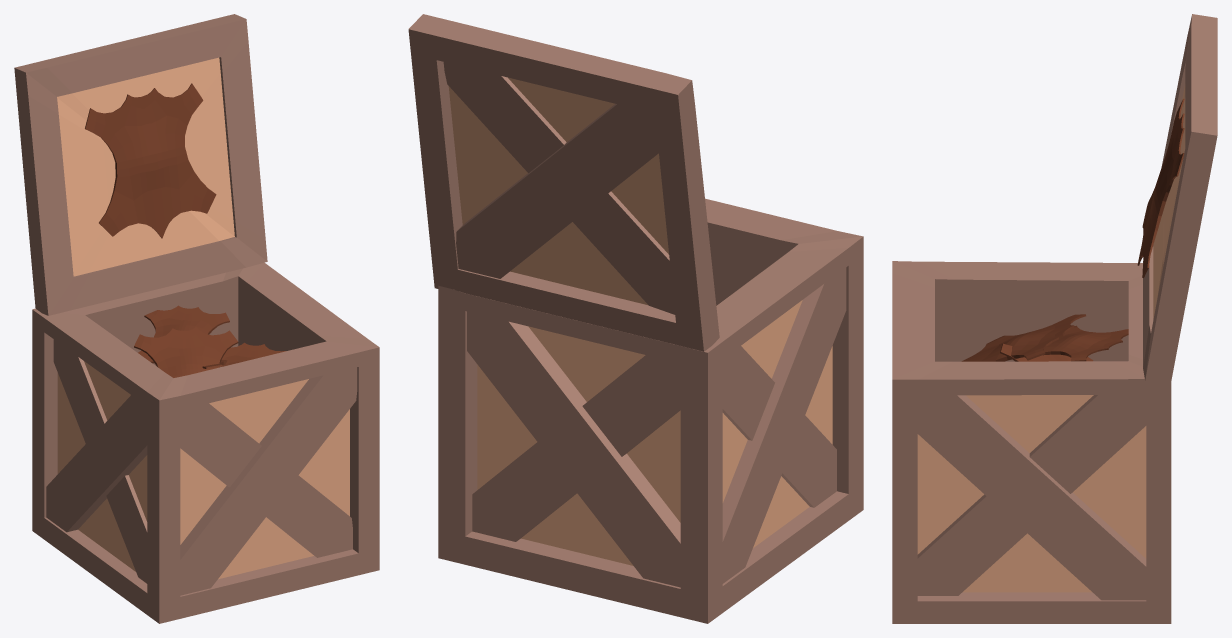
File: Box_Leather.fbx
3 renders of one model, left to right at view 1: azimuth 30°, elevation 25°; view 2: azimuth 150°, elevation 25°; view 3: azimuth 270°, elevation 25°, orthographic. The views are drawn at different scales.
Visible parts, largest first — view 1: Box.001; view 2: Box.001; view 3: Box.001.
Boxes of the visible parts, box(x1,y1,x2,y2) form: Box.001: box(14, 14, 379, 623); Box.001: box(408, 14, 863, 623); Box.001: box(892, 14, 1217, 623).
Size of the model in its own units: 96.2 by 185 by 111.
